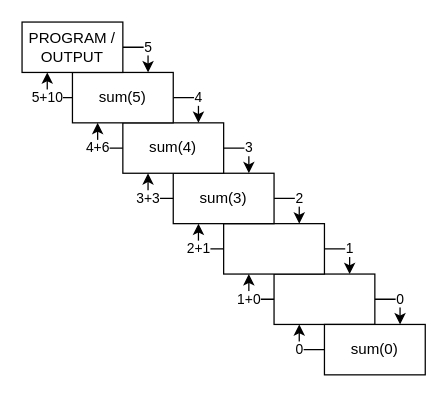
This 447x397 diagram has some shape labels left out. The centre of each missing label's shape, as x and y in pixels:
"sum(1)" goes at pixel 324 298.
"sum(2)" goes at pixel 273 248.
